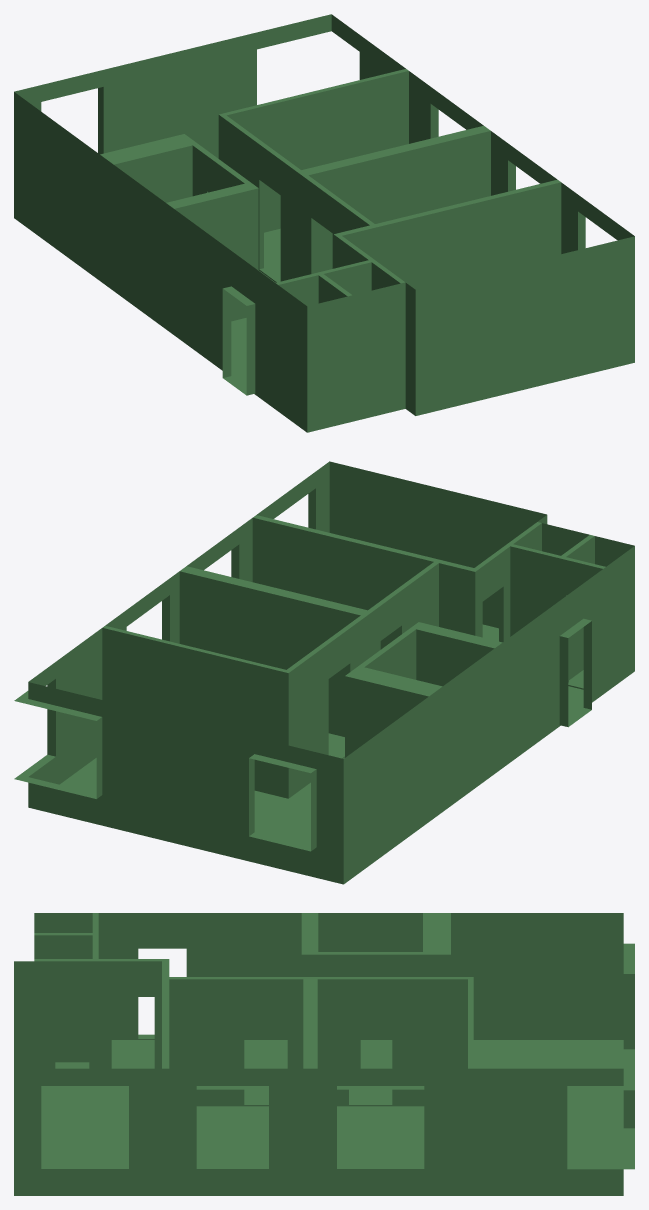
The model's file is Rooms_A_3_3_51.FBX.
The picture shows the model from 3 angles, top to bottom: view 1: azimuth 30°, elevation 25°; view 2: azimuth 150°, elevation 25°; view 3: azimuth 270°, elevation 25°; orthographic projection.
Visible parts, largest first — view 1: Rooms_A_3_3_51; view 2: Rooms_A_3_3_51; view 3: Rooms_A_3_3_51.
Boxes of the visible parts, x1,y1,x2,y2 form: Rooms_A_3_3_51: (14, 14, 634, 432); Rooms_A_3_3_51: (14, 461, 634, 884); Rooms_A_3_3_51: (14, 913, 634, 1195).
Bounding box in the file's own units: 7.76 × 2.8 × 12.4.
